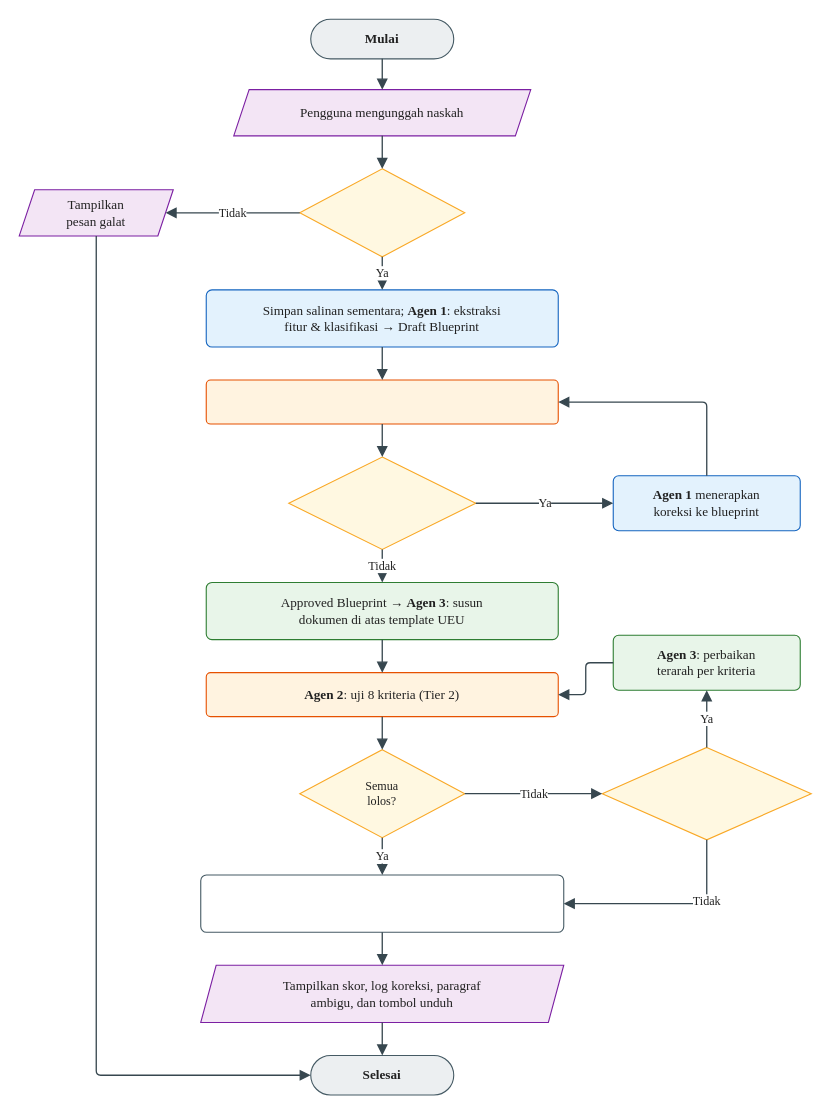
Some shapes in this 831 by 1114 pixel diagram are drawn without their labels. Each missing label, with the centre of its shape:
"Ada koreksi & iterasi < 3?" belongs at pixel 382 502.
"Agen 2 : audit blueprint (Tier 1)" belongs at pixel 381 401.
"Ekstensi .docx?" belongs at pixel 382 212.
"Iterasi < 3 & cacat berubah?" belongs at pixel 706 793.
"Simpan “(Asdoku) - nama.docx” + laporan sisa cacat; hapus salinan unggahan" belongs at pixel 382 903.
